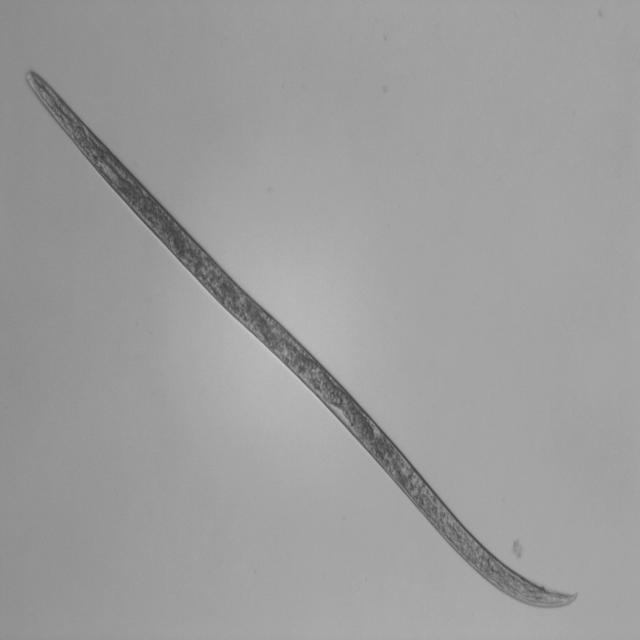Pratylenchus: (19, 67, 592, 618)
